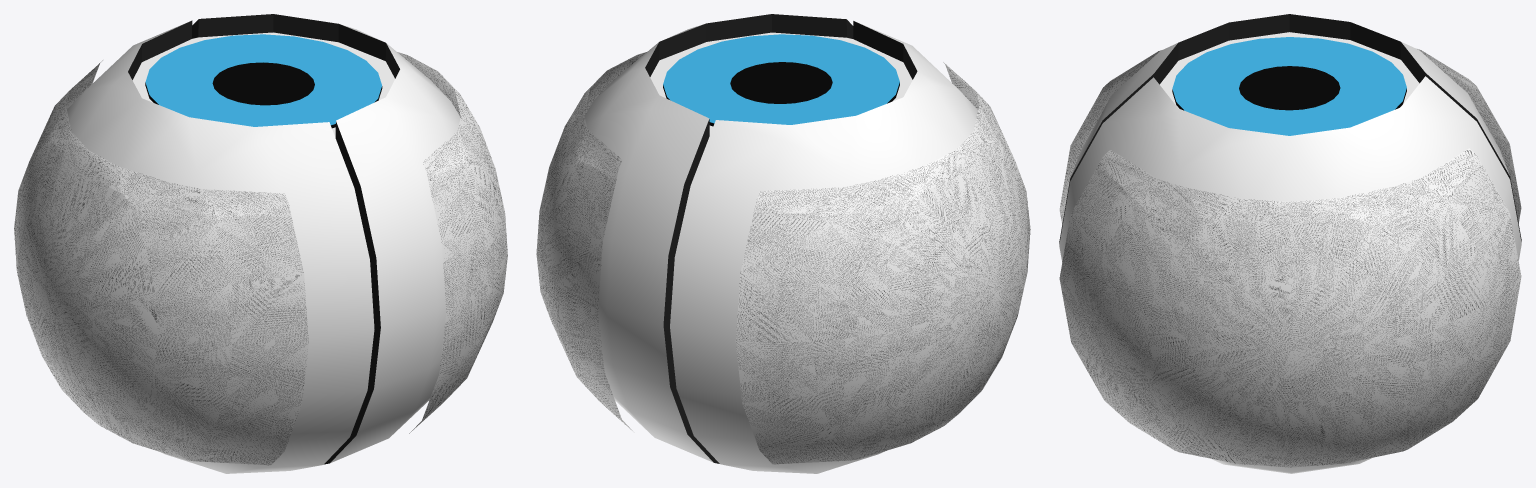
The model's file is glados.dae.
3 renders of one model, left to right at view 1: azimuth 30°, elevation 25°; view 2: azimuth 150°, elevation 25°; view 3: azimuth 270°, elevation 25°, orthographic.
Parts seen in each view (by area): view 1: instance_1, instance_3 (×2), instance_4 (×2), group_1 (×2), instance_2, group_0; view 2: instance_1, instance_3 (×2), instance_4 (×2), group_1 (×2), instance_2, group_0; view 3: instance_2, instance_4, group_1 (×2), instance_3 (×2), instance_1, group_0.
Part boxes in pixels (box(x1,y1,x2,y2)): instance_1: box(14, 60, 308, 465); instance_3 (×2): box(67, 20, 374, 473); instance_4 (×2): box(192, 14, 460, 464); group_1 (×2): box(145, 34, 381, 126); instance_2: box(397, 52, 507, 433); group_0: box(132, 32, 394, 137); instance_1: box(735, 62, 1030, 464); instance_3 (×2): box(670, 21, 977, 473); instance_4 (×2): box(584, 14, 853, 463); group_1 (×2): box(663, 34, 899, 124); instance_2: box(536, 52, 646, 432); group_0: box(650, 32, 912, 135); instance_2: box(1059, 148, 1521, 467); instance_4: box(1059, 76, 1521, 473); group_1 (×2): box(1172, 37, 1406, 135); instance_3 (×2): box(1059, 14, 1521, 243); instance_1: box(1059, 49, 1521, 223); group_0: box(1159, 32, 1419, 108).
Bounding box in the file's own units: 134 × 126 × 115.
